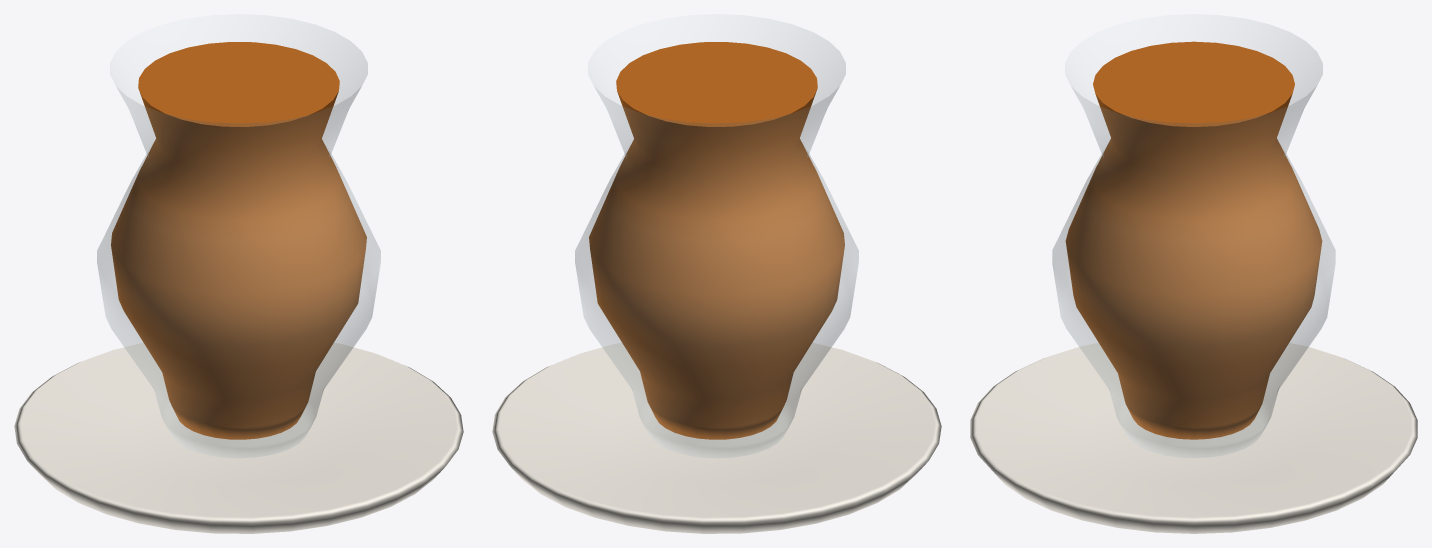
The model's file is tea.glb.
3 views of the same model, side by side, from view 1: azimuth 30°, elevation 25°; view 2: azimuth 150°, elevation 25°; view 3: azimuth 270°, elevation 25° (orthographic).
Visible parts, largest first — view 1: tea; view 2: tea; view 3: tea.
Part boxes in pixels (left/top/right/bottom): tea: left=14, top=14, right=463, bottom=533; tea: left=492, top=14, right=941, bottom=533; tea: left=970, top=14, right=1417, bottom=533.
Size of the model in its own units: 0.104 by 0.0965 by 0.1036.
